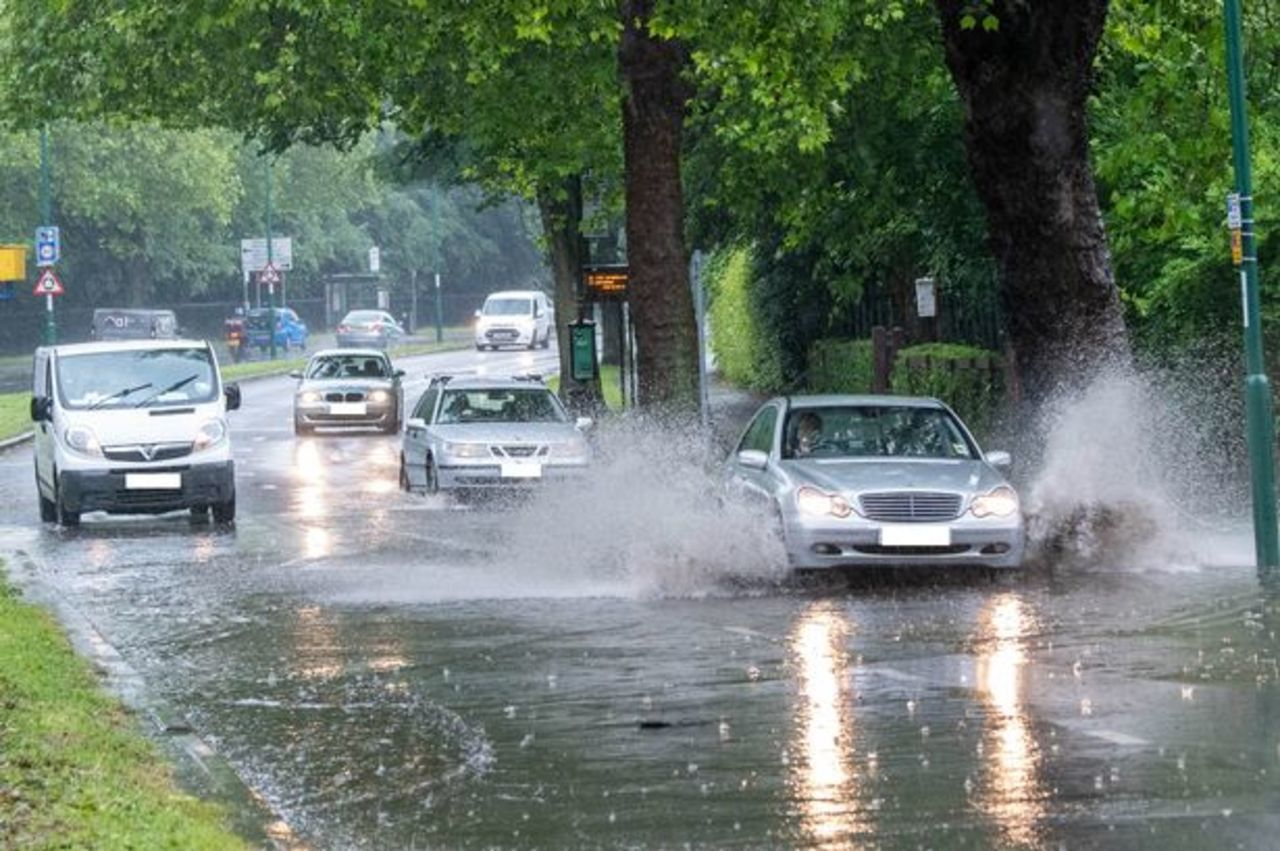car: (730, 392, 1030, 580), (27, 334, 238, 538), (402, 377, 593, 500), (293, 351, 401, 435), (470, 289, 554, 345), (244, 304, 308, 345), (334, 312, 410, 344)
